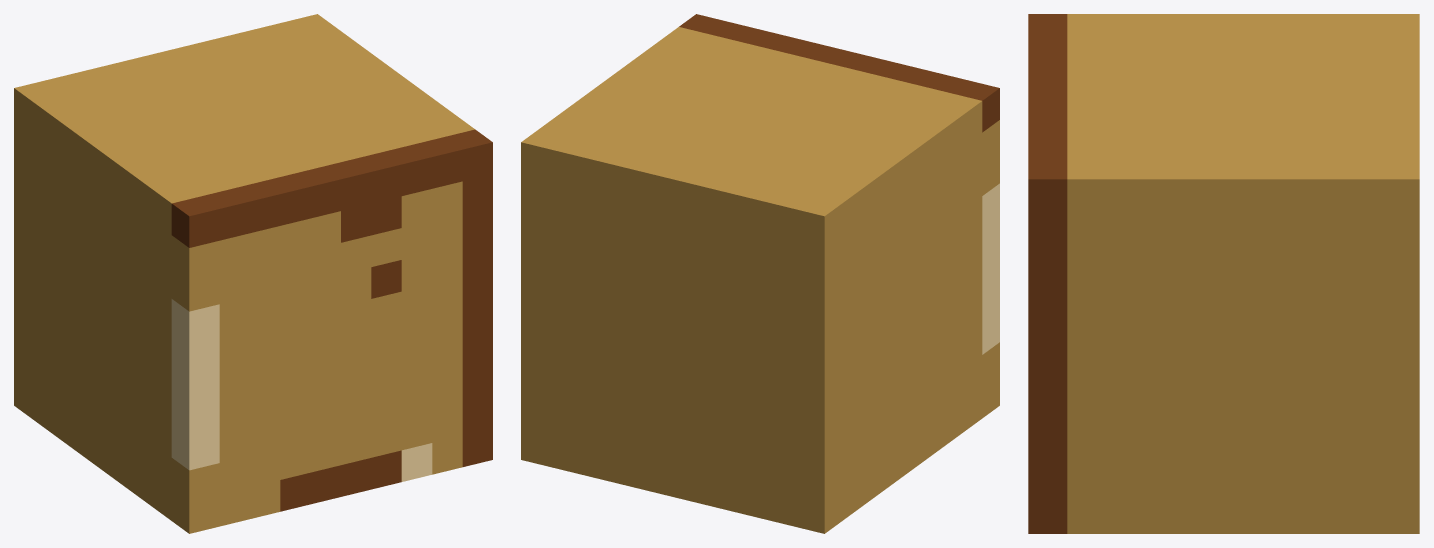
File: tile1.obj
3 renders of one model, left to right at view 1: azimuth 30°, elevation 25°; view 2: azimuth 150°, elevation 25°; view 3: azimuth 270°, elevation 25°, orthographic. The views are drawn at different scales.
Bounding box in the file's own units: 1 × 1 × 1.
Materials: 1 (1 with a texture image).
